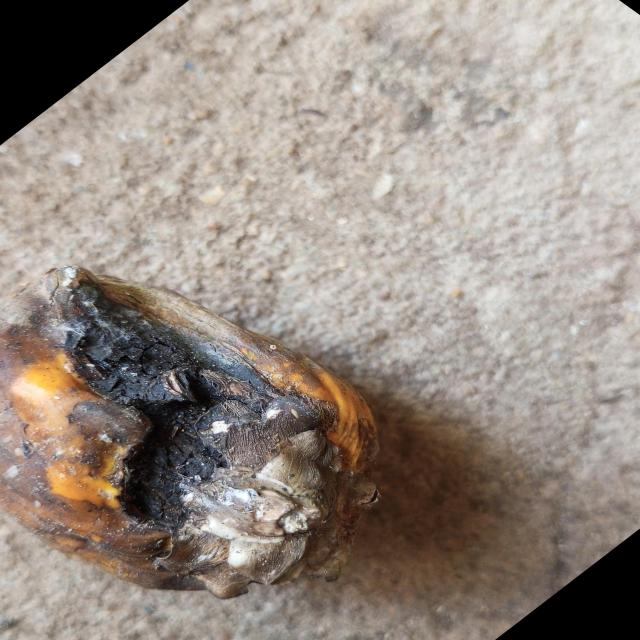damaged: (0, 267, 379, 598)
